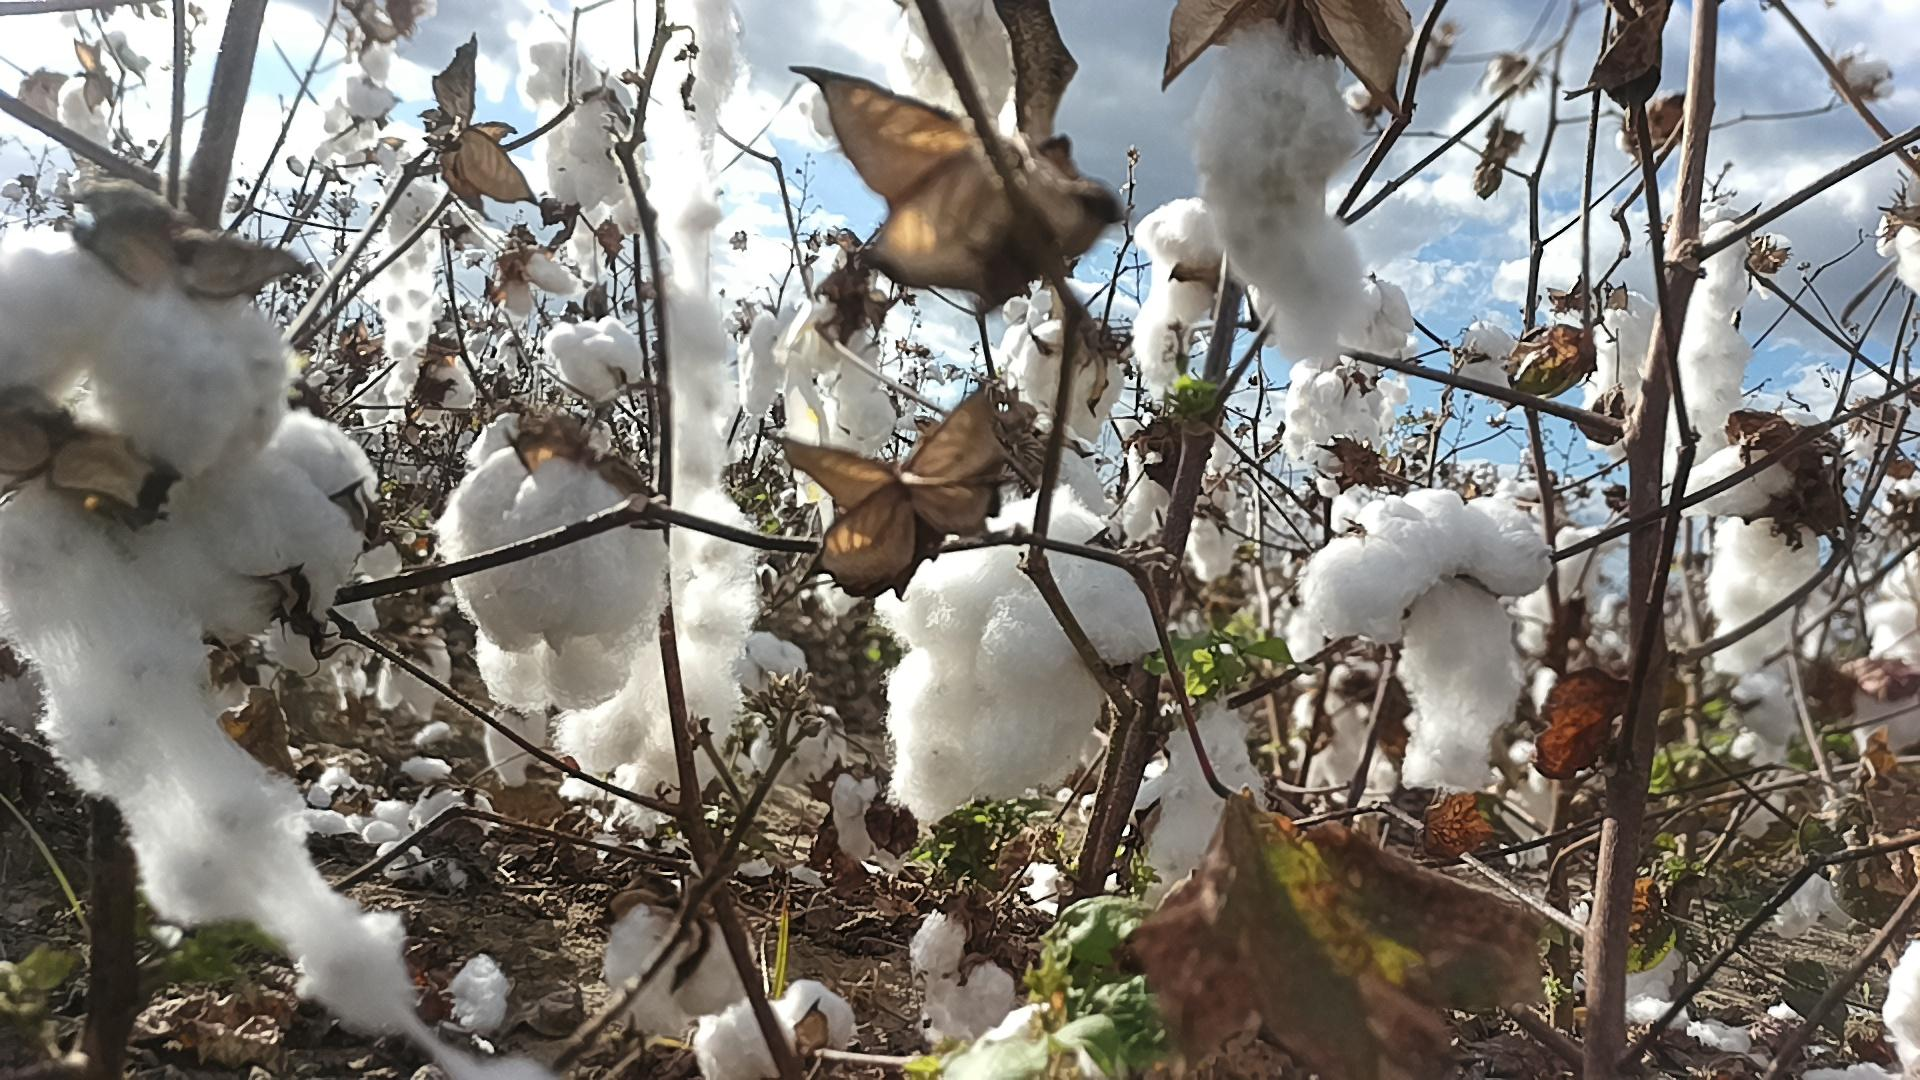cotton_ready: (0, 481, 553, 1080), (566, 3, 750, 796), (882, 516, 1171, 823), (1292, 491, 1551, 796), (0, 229, 290, 485), (1185, 20, 1370, 371), (116, 415, 381, 641), (444, 446, 658, 641), (1676, 429, 1828, 680), (1142, 700, 1275, 885), (608, 882, 756, 1038), (1133, 199, 1230, 390), (782, 297, 898, 448), (696, 978, 861, 1080), (526, 40, 628, 203), (890, 0, 1013, 128), (1010, 318, 1131, 447), (1684, 218, 1753, 433), (978, 448, 1114, 551), (909, 910, 1019, 1035), (261, 563, 382, 675), (1120, 469, 1241, 575), (1282, 356, 1386, 469), (1863, 550, 1920, 750), (1588, 287, 1660, 433), (539, 322, 647, 406), (502, 241, 578, 315), (740, 315, 786, 429), (198, 633, 258, 716), (1888, 940, 1920, 1076)
